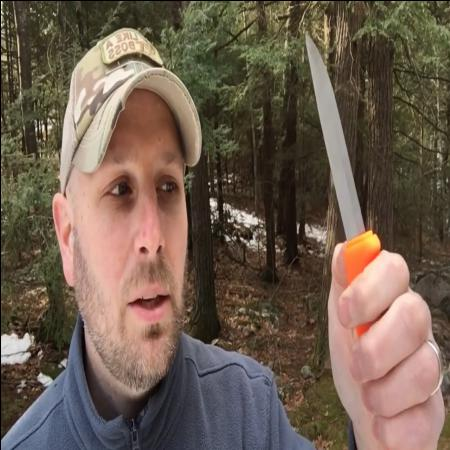long weapon: (296, 18, 418, 370)
